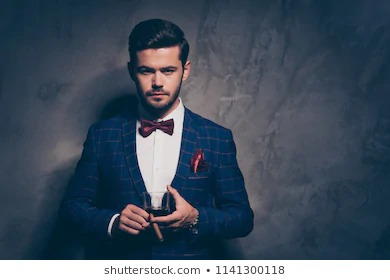F_M_suit jacket: (60, 106, 259, 258)
